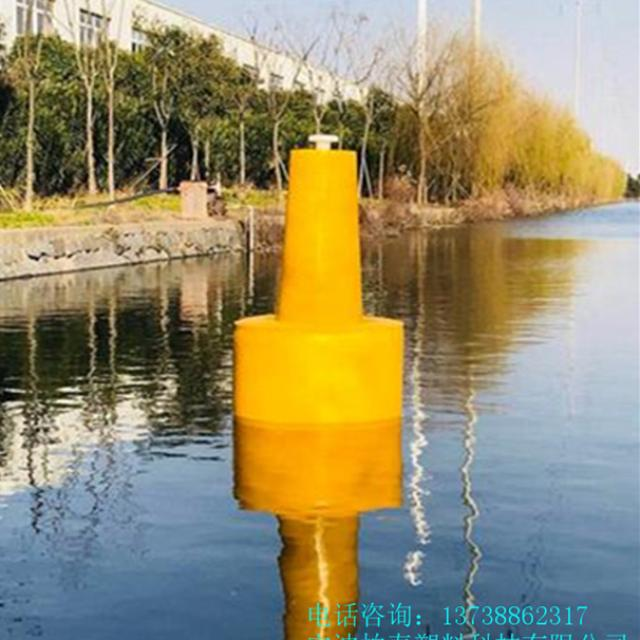buoy: (226, 131, 412, 439)
